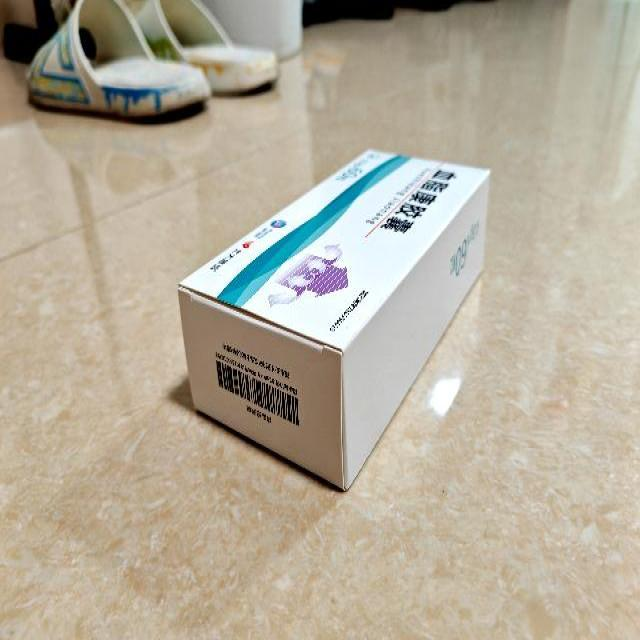box: (176, 148, 492, 494)
